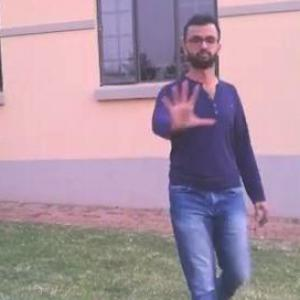follow_hand: (156, 75, 218, 133)
